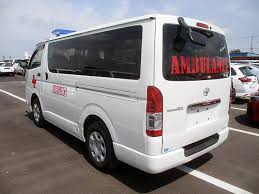Ambulance: (20, 12, 235, 177)
private car: (231, 58, 259, 105), (0, 56, 17, 81)
